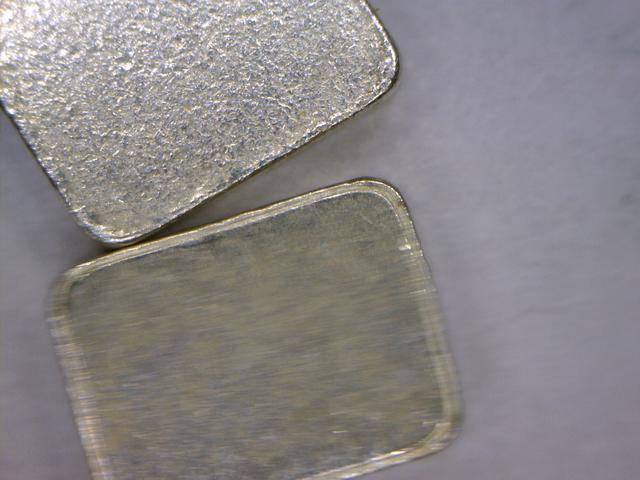nok: (39, 173, 471, 472)
